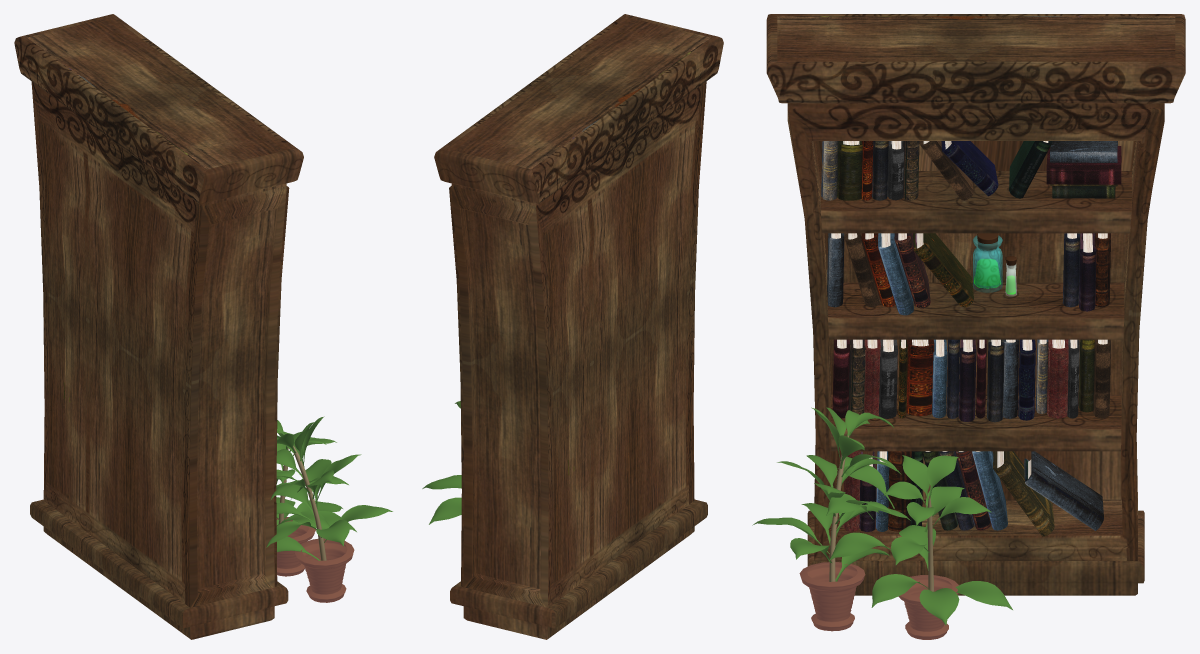
3 renders of one model, left to right at view 1: azimuth 30°, elevation 25°; view 2: azimuth 150°, elevation 25°; view 3: azimuth 270°, elevation 25°, orthographic. The views are drawn at different scales.
Parts seen in each view (by area): view 1: Bookshelf2, polySurface136, polySurface135, polySurface193; view 2: Bookshelf2, polySurface160; view 3: Bookshelf2, polySurface136, Book_Case_Book10, Book_Case_Book19, Book_Case_Book9, Book_Case_Book34, polySurface135, Book_Case_Book45, Book_Case_Book49, Book_Case_Book25, Book_Case_Book8, Book_Case_Book17 (+50 smaller).
Part boxes in pixels (x1,y1,x2,y2): Bookshelf2: [14, 14, 303, 639]; polySurface136: [295, 538, 354, 602]; polySurface135: [276, 517, 315, 576]; polySurface193: [293, 445, 326, 560]; Bookshelf2: [434, 14, 723, 639]; polySurface160: [429, 497, 461, 524]; Bookshelf2: [766, 14, 1185, 595]; polySurface136: [799, 562, 865, 631]; Book_Case_Book10: [1024, 451, 1103, 530]; Book_Case_Book19: [913, 233, 973, 307]; Book_Case_Book9: [993, 451, 1054, 536]; Book_Case_Book34: [906, 339, 934, 416]; polySurface135: [898, 575, 958, 639]; Book_Case_Book45: [1046, 146, 1121, 184]; Book_Case_Book49: [941, 141, 998, 196]; Book_Case_Book25: [1047, 339, 1068, 418]; Book_Case_Book8: [972, 451, 1007, 530]; Book_Case_Book17: [878, 233, 913, 315].
Bounding box in the file's own units: 4.8 × 10 × 7.3.
8 materials, 3 textured.
